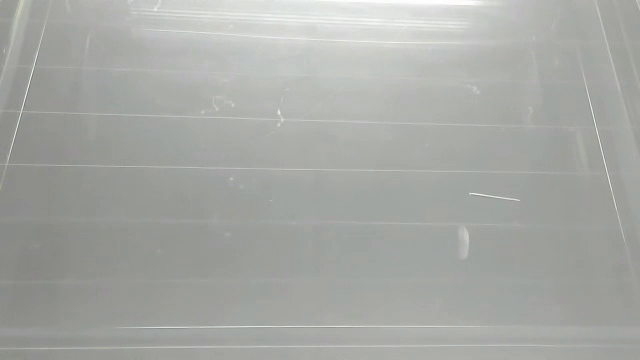alpha: (467, 188, 523, 206), (454, 221, 472, 265)
